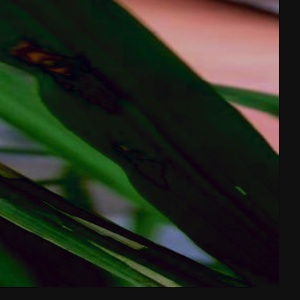Brown_Spot: (13, 40, 123, 120), (107, 129, 172, 196)
